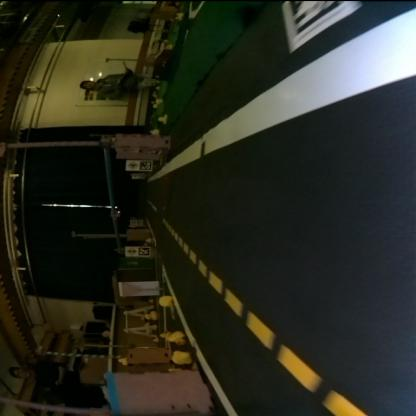Duckie: (172, 351, 188, 365), (170, 333, 184, 344), (158, 297, 172, 306), (118, 358, 126, 365)
Intersection sign: (126, 160, 138, 170)
QR code: (139, 160, 151, 170), (137, 247, 149, 256)
Signal sign: (124, 248, 136, 256)
